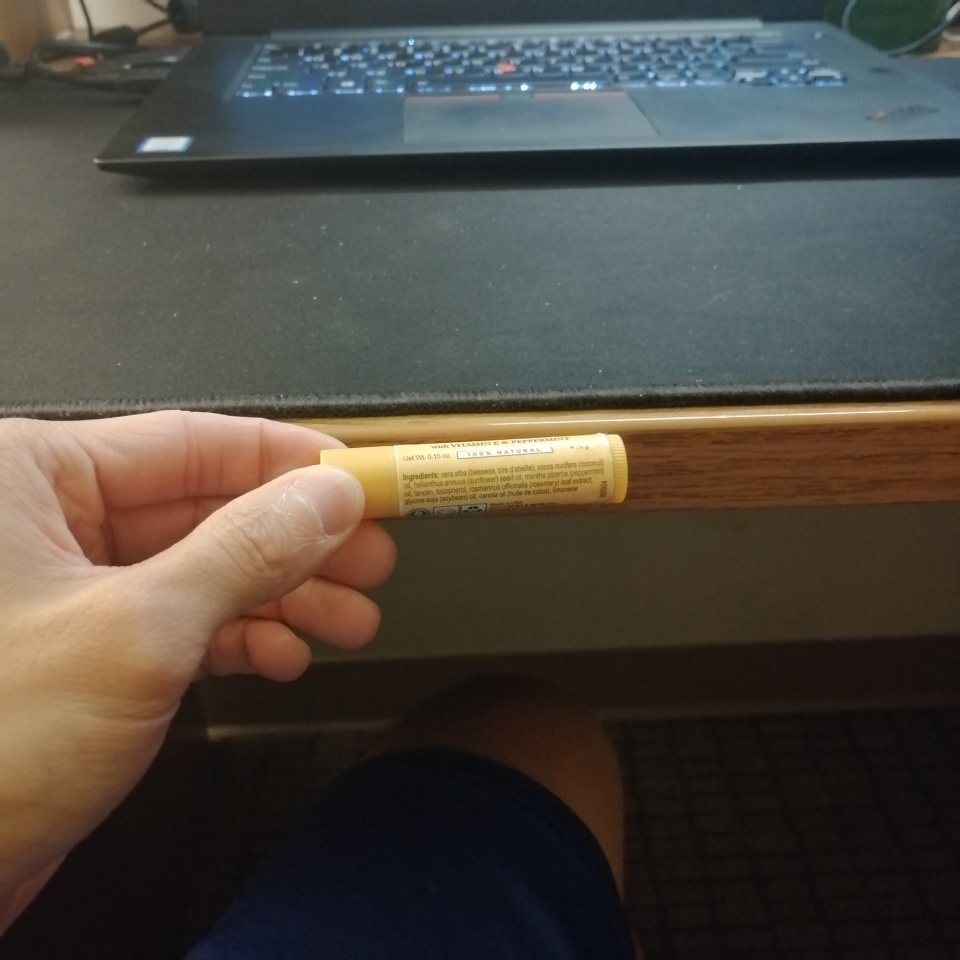chapstick: (317, 429, 631, 517)
